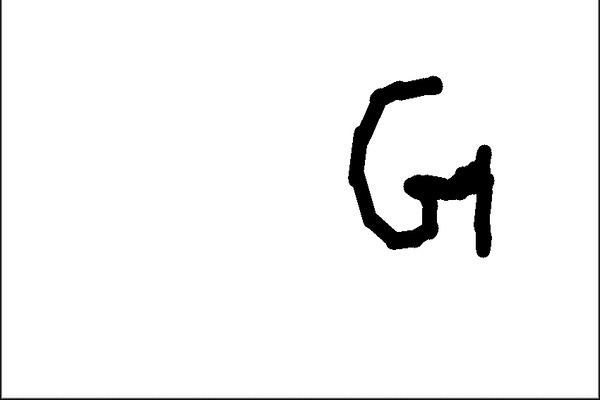G: (341, 72, 497, 262)
